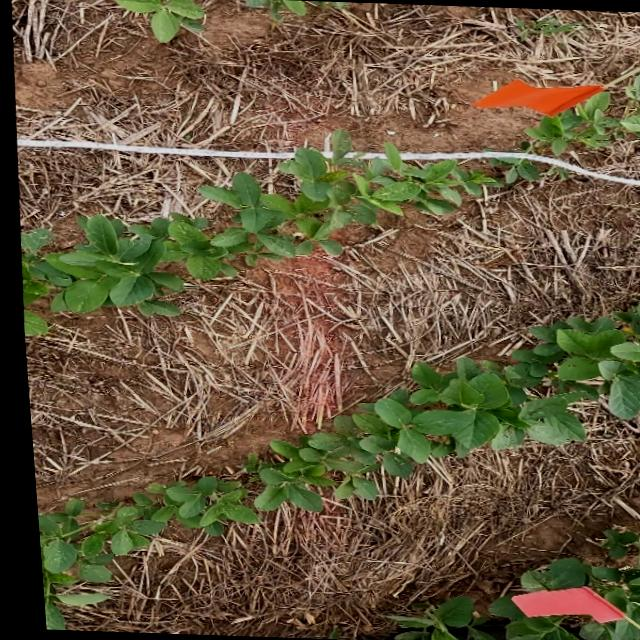grassy_weed: (514, 15, 580, 38)
soy_plant: (17, 129, 497, 314), (238, 300, 640, 510), (30, 475, 249, 629), (384, 523, 640, 640), (526, 72, 640, 153), (116, 0, 204, 40), (245, 0, 346, 14), (486, 158, 536, 182), (18, 309, 42, 334)
